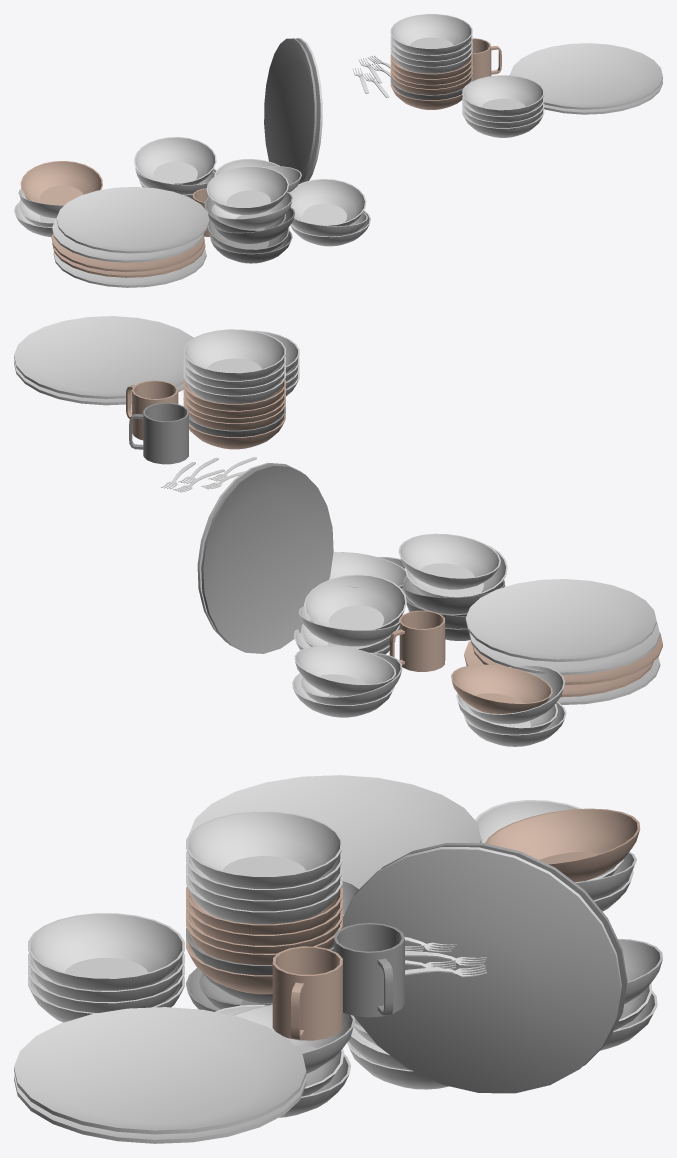
The model's file is dishes3.gltf.
3 renders of one model, top to bottom at view 1: azimuth 30°, elevation 25°; view 2: azimuth 150°, elevation 25°; view 3: azimuth 270°, elevation 25°, orthographic. The views are drawn at different scales.
Parts seen in each view (by area): view 1: dishes; view 2: dishes; view 3: dishes.
Part boxes in pixels (x1,y1,x2,y2): dishes: (14,14,662,287); dishes: (14,316,662,746); dishes: (14,775,662,1143).
Bounding box in the file's own units: 1.27 × 0.4073 × 0.6872.
